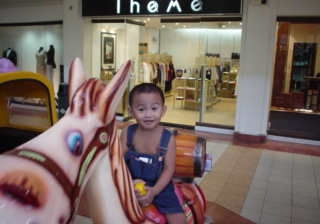person: (119, 84, 189, 224)
